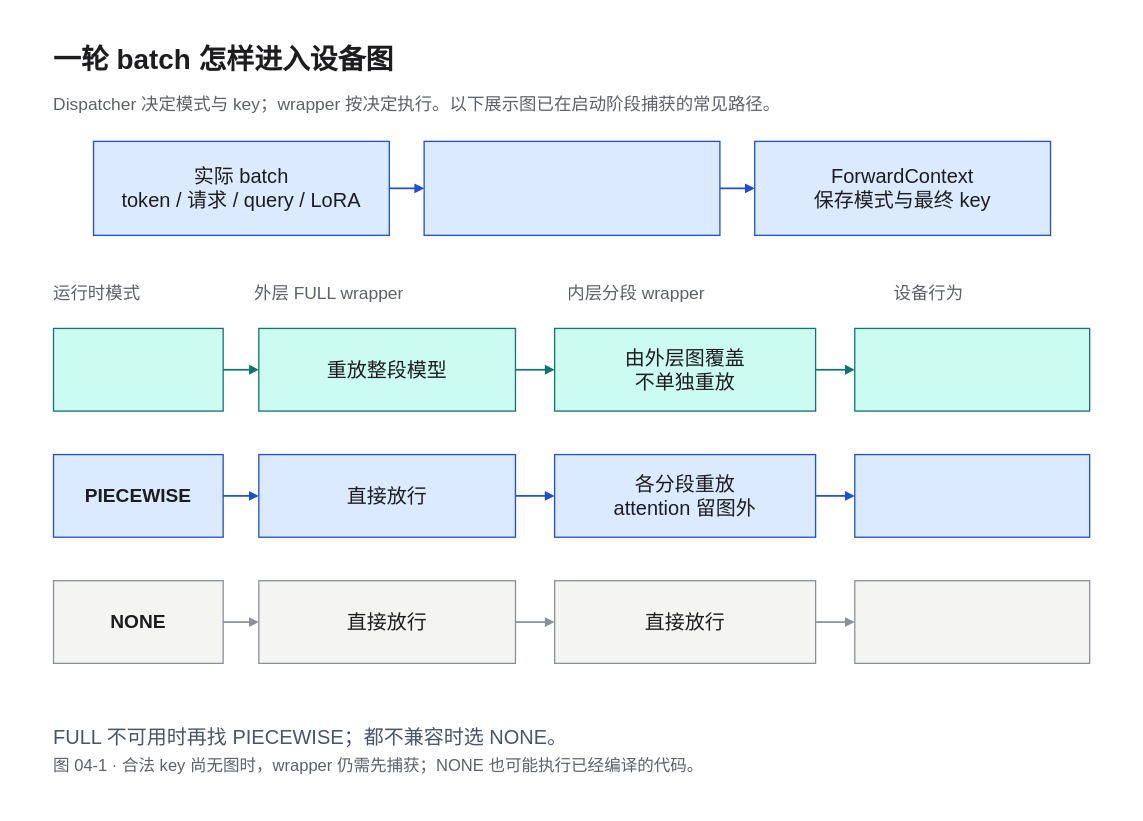
The diagram is 1143 pixels wide and 821 high, and some of its shapes have lost their labels. The centre of each missing label's shape, as x and y in pixels:
Dispatcher 匹配捕获桶与合法 key: the point at 571,188
FULL: the point at 137,369
多次分段 replay: the point at 972,495
执行原 callable: the point at 972,622
整图 replay: the point at 972,369
